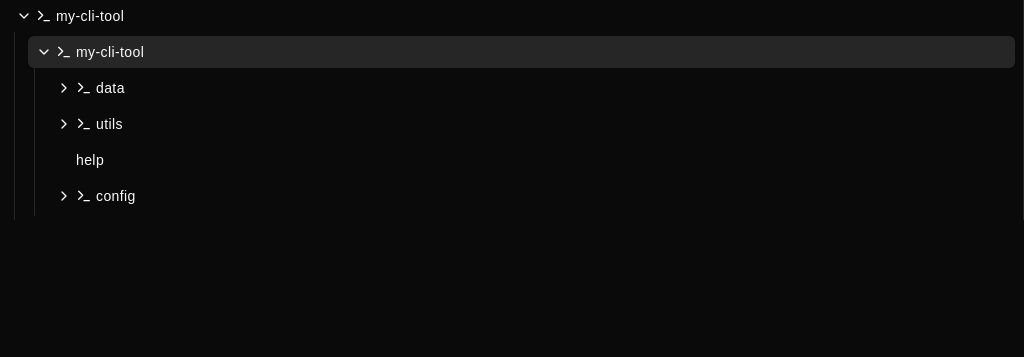
Test: CommandTree › Edge Cases Tests › handles deep nesting of commands
This screenshot has width=1024, height=357.
Click the 6th button: (64, 196) top-left (56, 188), bottom-right (72, 204)
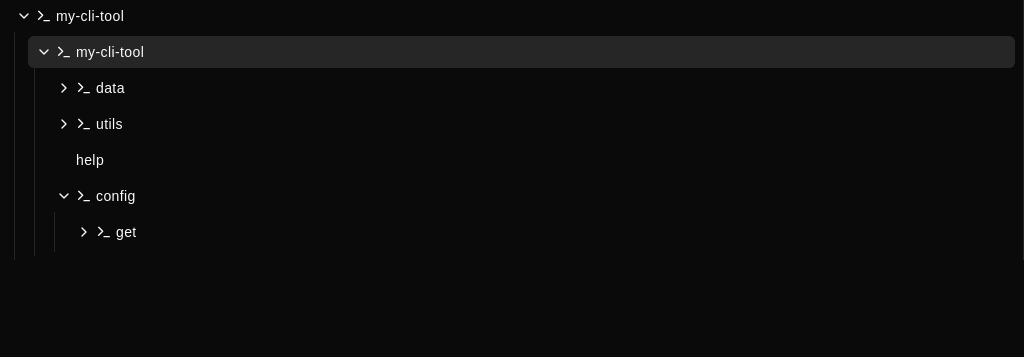
expect the text "get" is shown: met, box top-left (116, 224), bottom-right (137, 240)
Click the 7th button: (84, 232) top-left (76, 224), bottom-right (92, 240)
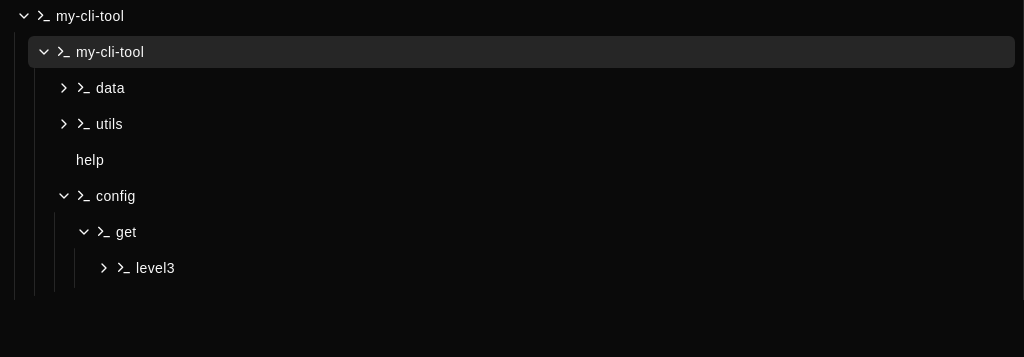
expect the text "level3" is shown: met, box top-left (136, 260), bottom-right (175, 276)
Click the 8th button: (104, 268) top-left (96, 260), bottom-right (112, 276)
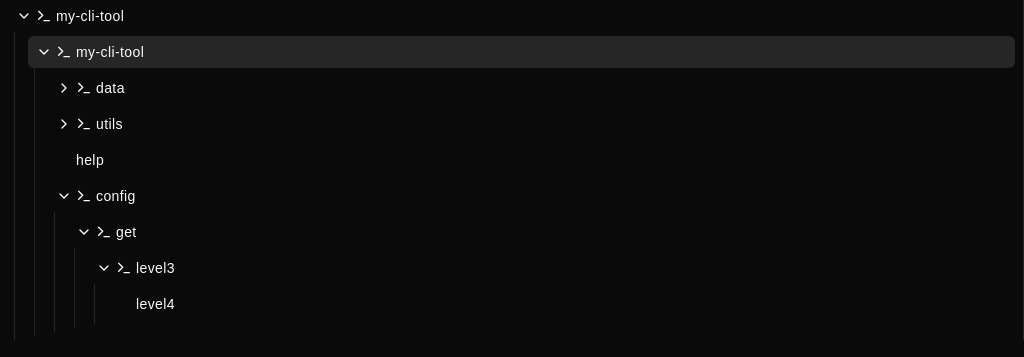
expect the text "level4" is shown: met, box top-left (136, 296), bottom-right (175, 312)
